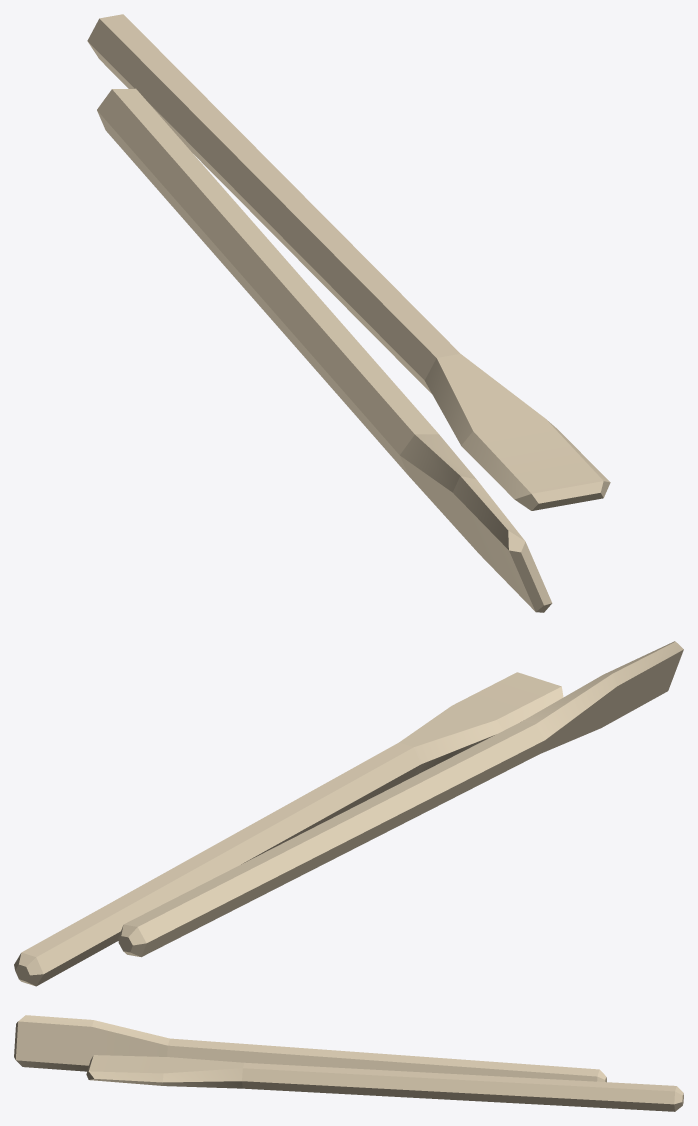
The model's file is remos2.glb.
3 views of the same model, one above another, from view 1: azimuth 30°, elevation 25°; view 2: azimuth 150°, elevation 25°; view 3: azimuth 270°, elevation 25° (orthographic). The views are drawn at different scales.
Visible parts, largest first — view 1: object1, object2; view 2: object2, object1; view 3: object1, object2.
Part boxes in pixels (x1,y1,x2,y2): object1: [87, 14, 610, 510]; object2: [97, 88, 552, 612]; object2: [118, 641, 683, 957]; object1: [14, 672, 563, 986]; object1: [86, 1055, 683, 1111]; object2: [14, 1015, 606, 1082].
Size of the model in its own units: 0.3892 by 0.1163 by 1.61.
